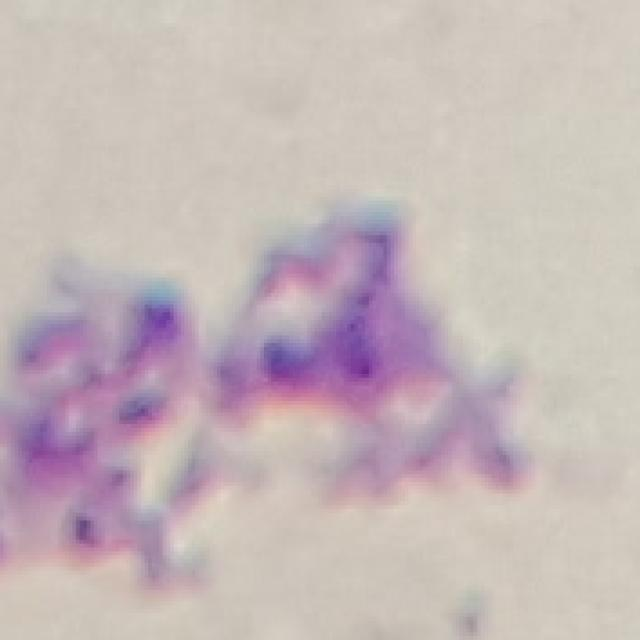non-sperm: (1, 206, 503, 574)
